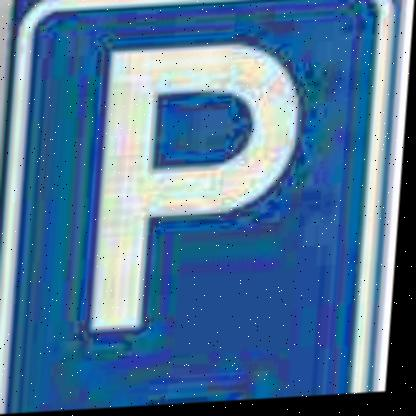Parking: (5, 0, 398, 360)
